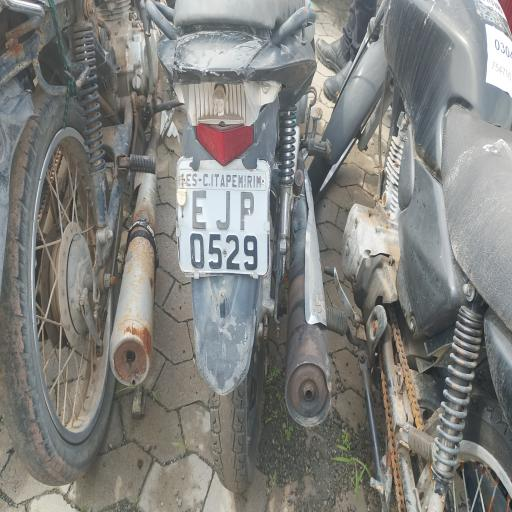Caractere: (192, 189, 207, 231), (216, 190, 231, 232), (240, 191, 255, 232), (190, 232, 205, 269), (243, 234, 258, 270), (208, 233, 222, 270), (226, 234, 240, 270)
Placa: (177, 158, 271, 278)
